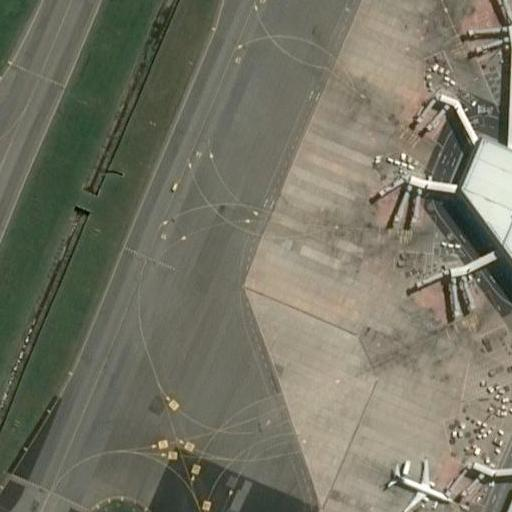Aircraft: (385, 462, 460, 512)
